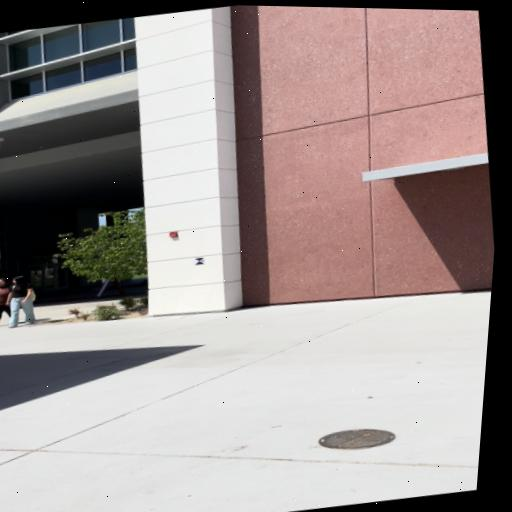target6: (194, 257, 205, 265)
